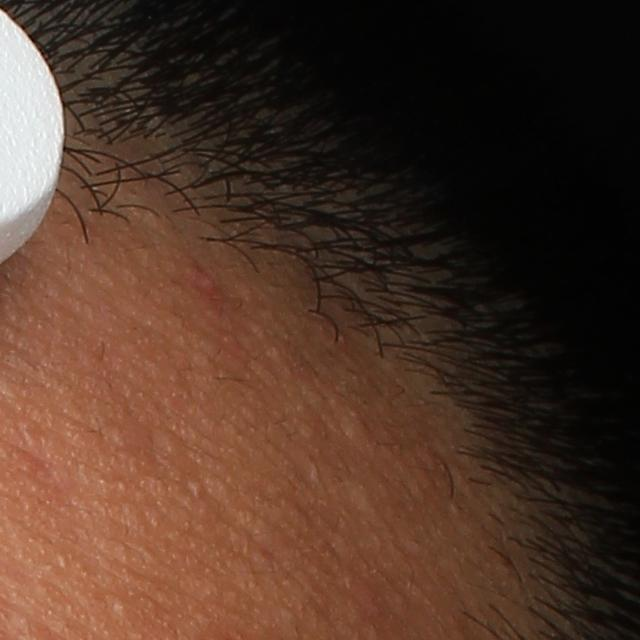comedo: (110, 598, 130, 622)
